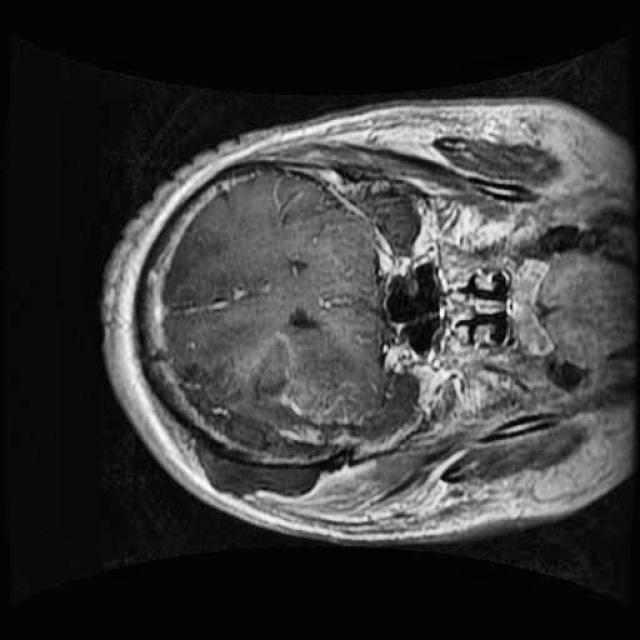Tumor: (165, 356, 355, 473)
